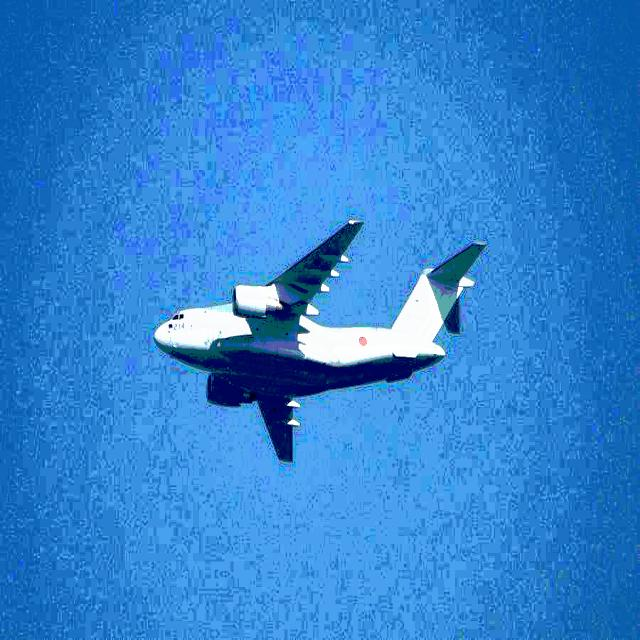Aircraft: (152, 217, 486, 462)
